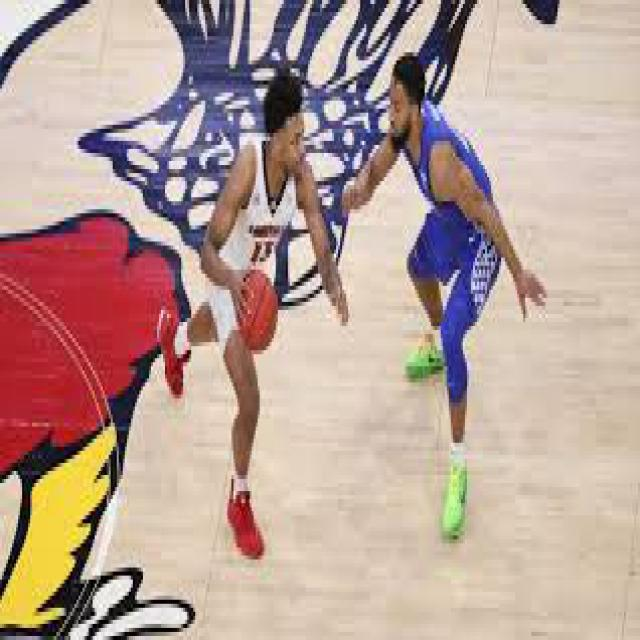basketball: (235, 270, 278, 354)
